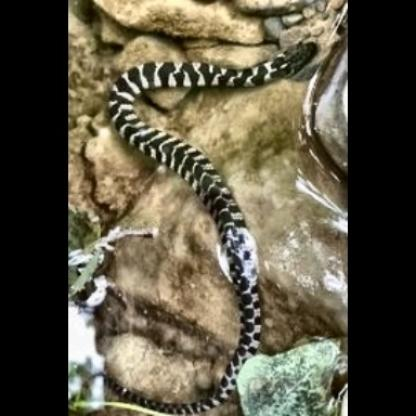Snake: (68, 6, 343, 416)
